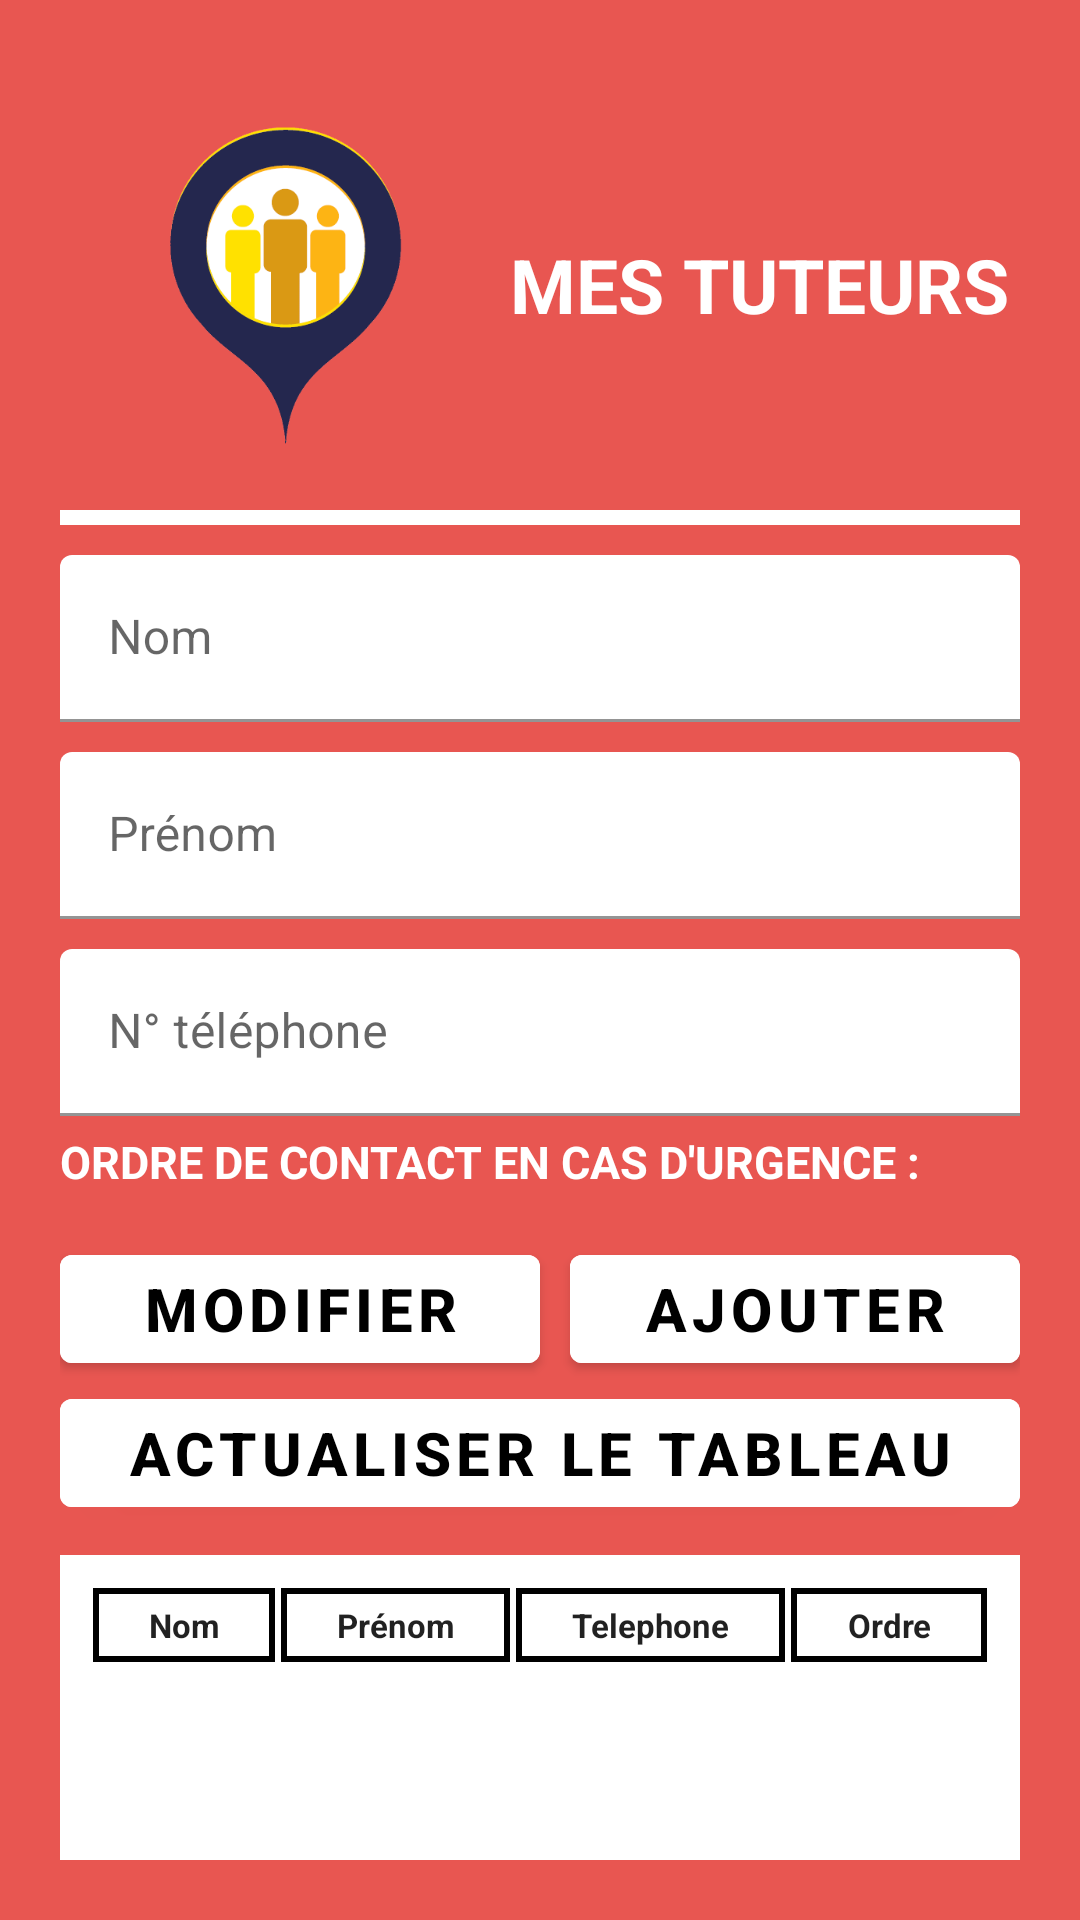

Icon bounding boxes for this 1080 x 1920 phone screenshot, format (x1, y1, x2, y2):
item tuteurs: (170, 127, 401, 444)
